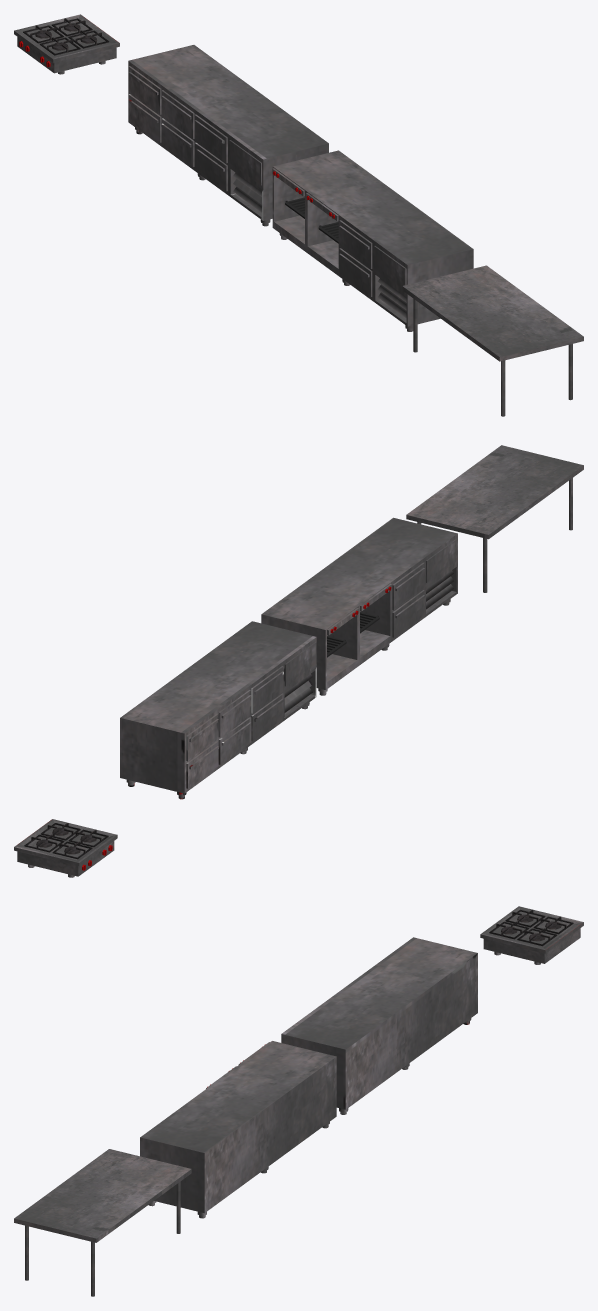
Rendered from Kitchen.fbx.
The picture shows the model from 3 angles, top to bottom: view 1: azimuth 30°, elevation 25°; view 2: azimuth 150°, elevation 25°; view 3: azimuth 330°, elevation 25°; orthographic projection. The views are drawn at different scales.
Visible parts, largest first — view 1: SM_KitchenOven, SM_KitchenCounter, SM_ButcherTable, SM_Cooker; view 2: SM_KitchenCounter, SM_KitchenOven, SM_ButcherTable, SM_Cooker; view 3: SM_KitchenOven, SM_KitchenCounter, SM_ButcherTable, SM_Cooker.
Boxes of the visible parts, <box> form: SM_KitchenOven: <box>272,150,473,331</box>; SM_KitchenCounter: <box>128,45,328,226</box>; SM_ButcherTable: <box>402,265,583,416</box>; SM_Cooker: <box>14,14,119,74</box>; SM_KitchenCounter: <box>120,621,316,799</box>; SM_KitchenOven: <box>261,517,457,695</box>; SM_ButcherTable: <box>406,445,583,592</box>; SM_Cooker: <box>14,819,117,877</box>; SM_KitchenOven: <box>140,1041,336,1218</box>; SM_KitchenCounter: <box>281,937,477,1114</box>; SM_ButcherTable: <box>14,1149,191,1296</box>; SM_Cooker: <box>480,906,583,964</box>.
Size of the model in its own units: 100 by 80.15 by 1029.
